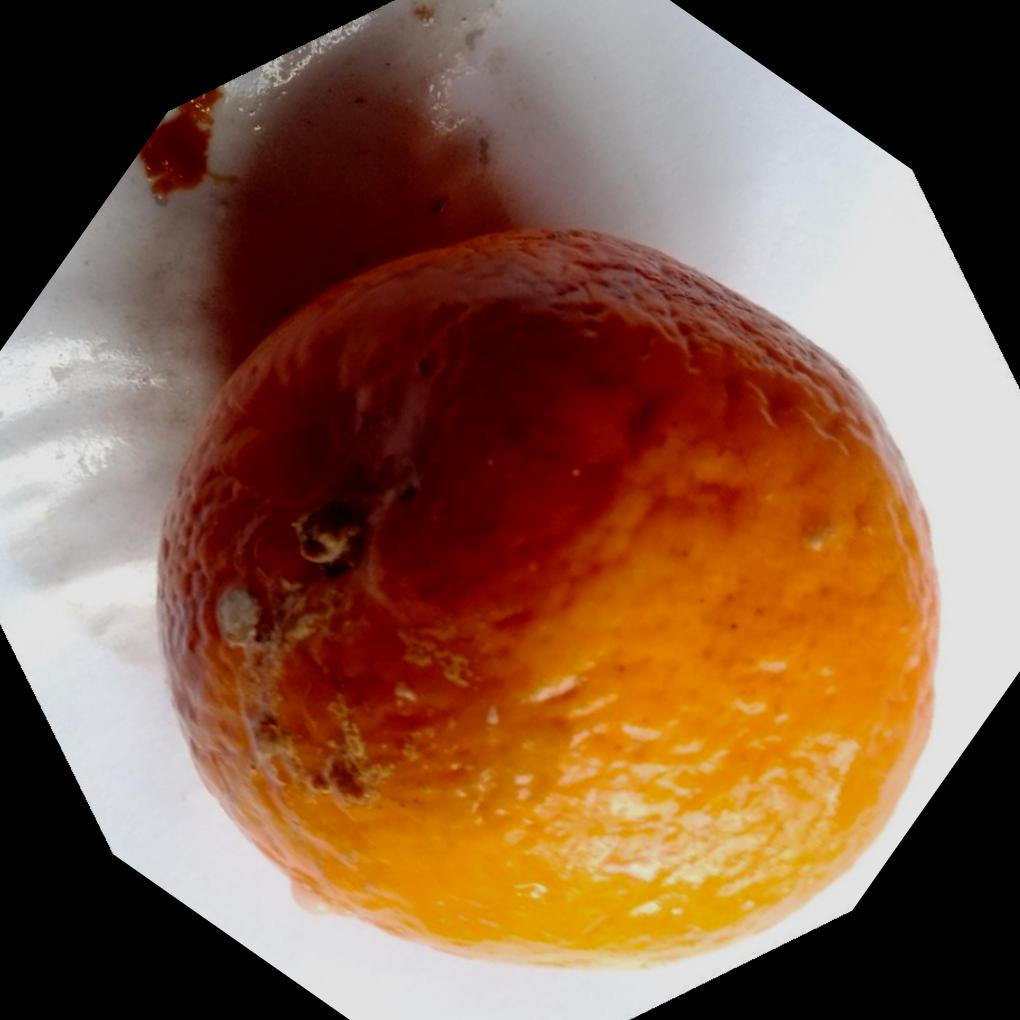FreshOrange: (155, 222, 945, 972)
